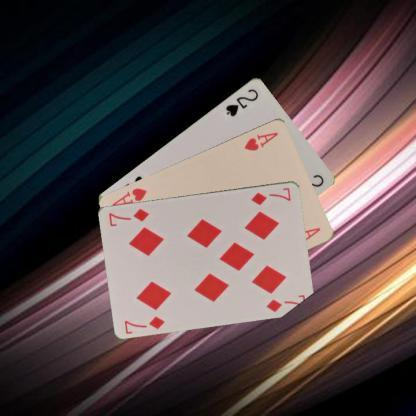2s: (223, 86, 260, 118)
7d: (248, 184, 292, 206), (122, 313, 166, 335)
Ah: (242, 129, 280, 152)
